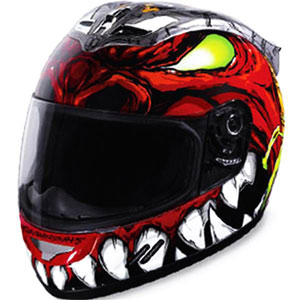helmet: (25, 7, 278, 281)
